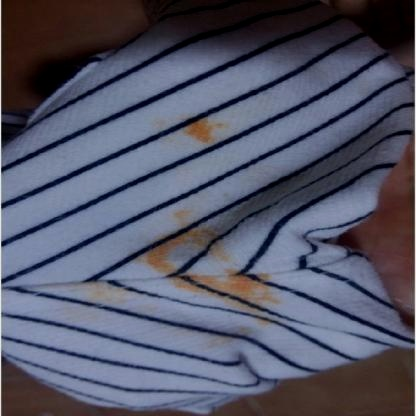kimchi: (178, 271, 274, 314), (73, 275, 125, 307), (178, 231, 223, 264), (182, 114, 222, 148), (138, 248, 176, 278), (196, 331, 234, 351), (168, 211, 188, 228), (253, 314, 267, 331)
